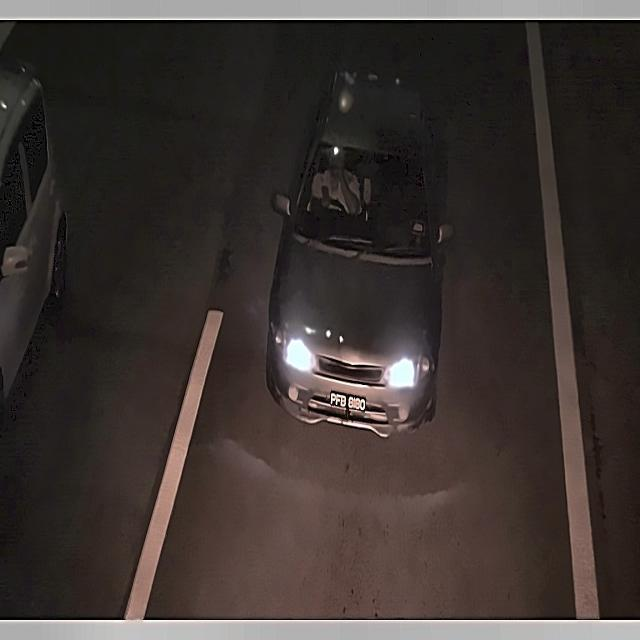car: (327, 382, 371, 419)
